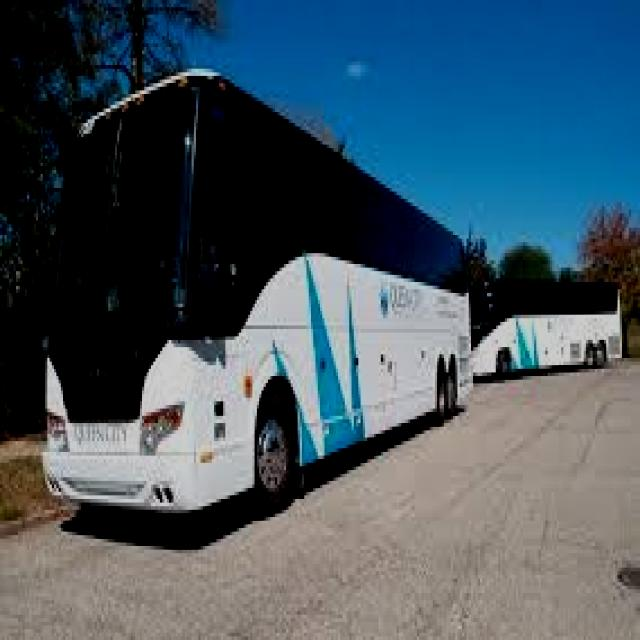bus: (39, 70, 479, 557), (477, 275, 621, 375)
